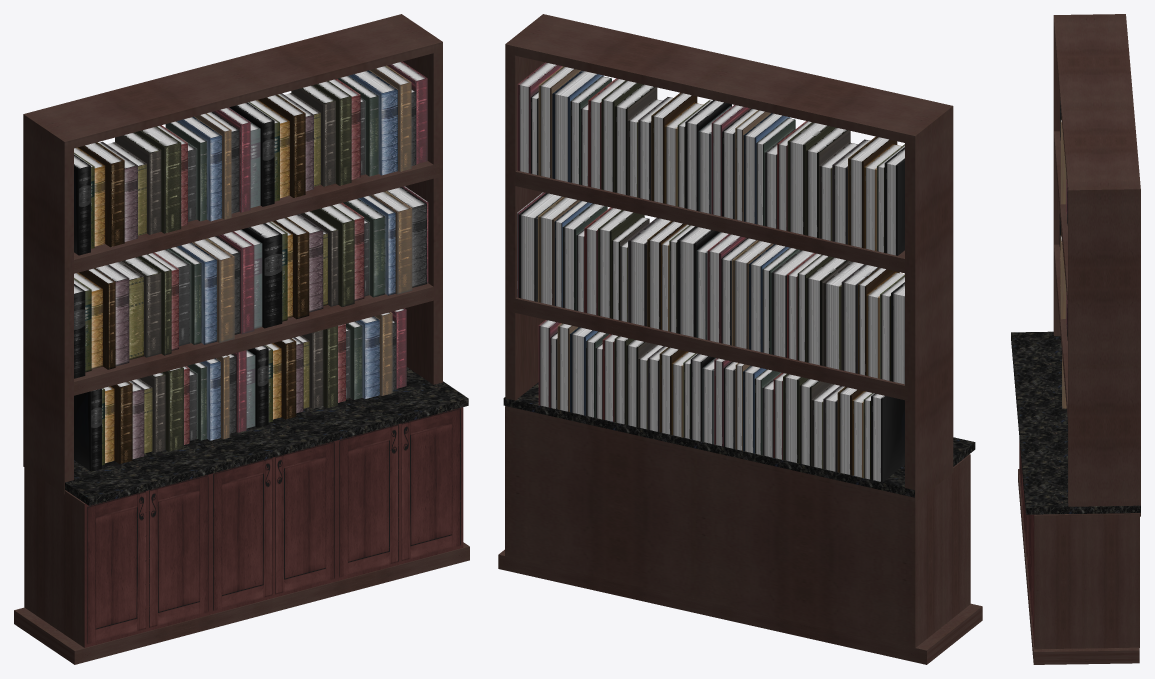
File: bookshelf.glb
3 renders of one model, left to right at view 1: azimuth 30°, elevation 25°; view 2: azimuth 150°, elevation 25°; view 3: azimuth 270°, elevation 25°, orthographic. The views are drawn at different scales.
Visible parts, largest first — view 1: cabinets, frame, books_top, books_mid, books_btm, btmshelf, base, topshelf, midshelf; view 2: cabinets, frame, books_top, books_mid, books_btm, base, midshelf, topshelf, btmshelf; view 3: frame, cabinets, btmshelf, base, topshelf, midshelf, books_mid, books_top.
Part boxes in pixels (<box>): cabinets: <box>24,407,463,647</box>; frame: <box>23,14,442,494</box>; books_top: <box>74,61,427,255</box>; books_mid: <box>74,186,428,378</box>; books_btm: <box>74,308,406,471</box>; btmshelf: <box>65,367,468,505</box>; base: <box>14,542,469,664</box>; topshelf: <box>74,161,439,273</box>; midshelf: <box>74,283,433,395</box>; cabinets: <box>505,406,970,648</box>; frame: <box>505,14,953,502</box>; books_top: <box>517,62,904,255</box>; books_mid: <box>517,192,904,384</box>; books_btm: <box>538,320,904,482</box>; base: <box>498,549,982,664</box>; midshelf: <box>513,297,907,400</box>; topshelf: <box>515,170,904,273</box>; btmshelf: <box>503,382,975,497</box>; frame: <box>1053,14,1140,516</box>; cabinets: <box>1019,439,1139,649</box>; btmshelf: <box>1011,331,1140,514</box>; base: <box>1018,469,1139,664</box>; topshelf: <box>1054,131,1068,311</box>; midshelf: <box>1054,244,1067,420</box>; books_mid: <box>1059,214,1067,340</box>; books_top: <box>1060,101,1067,225</box>.
Bounding box in the file's own units: 3.61 × 4.29 × 1.07.
20 materials, 20 textured.
